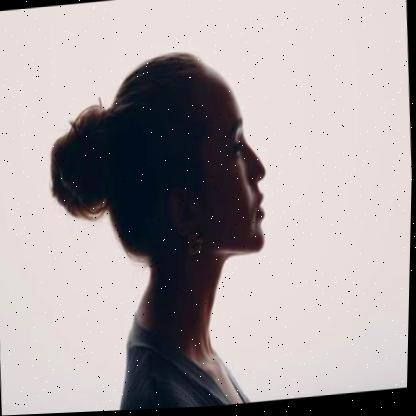person: (32, 27, 341, 414)
